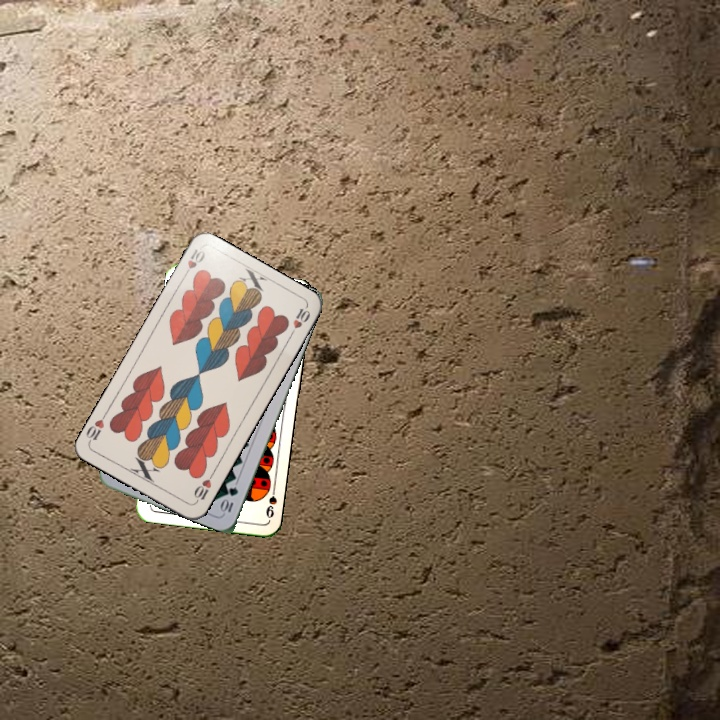G10: (217, 483, 241, 516)
H10: (179, 245, 208, 281), (190, 468, 217, 506)
S9: (262, 481, 279, 521)
